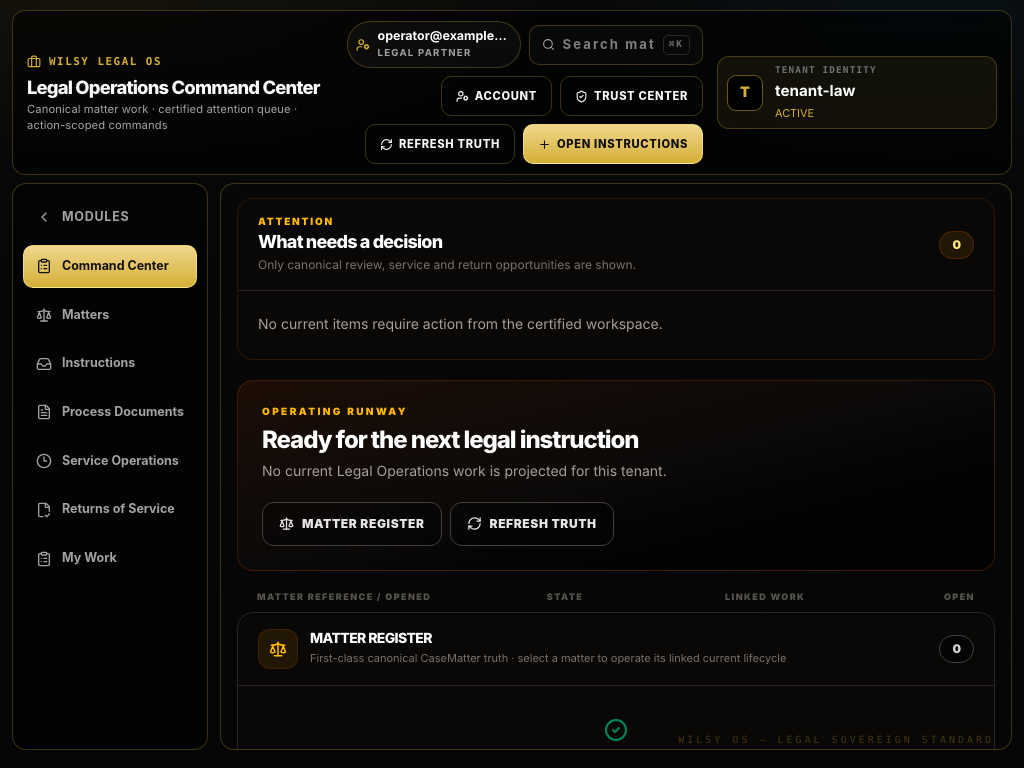
Test: PW-P11C canonical Legal dashboard productive work › keeps productive-work transport closed until My Work is opened
Click the button "My Work" at (110, 558), box [23,537,197,580]
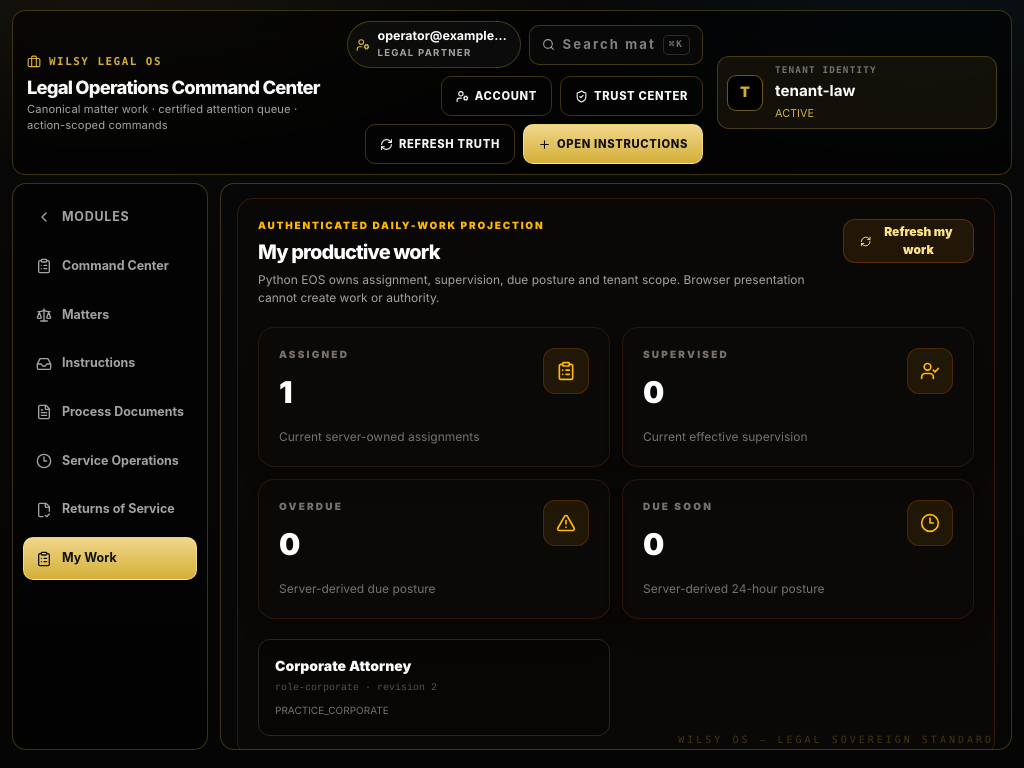
Expected: the heading "My productive work" is shown, [258,240,440,264]
Expected: the text "Corporate Attorney" is shown, [275,658,411,674]
